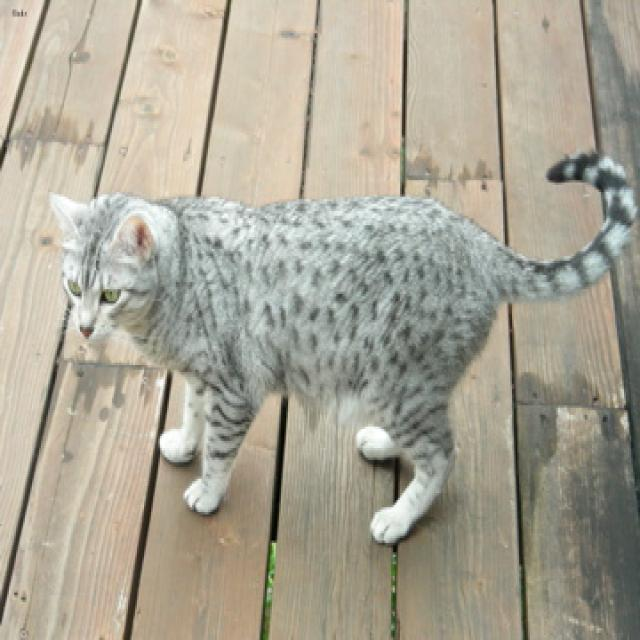Egyptian_Mau: (48, 190, 156, 346)
